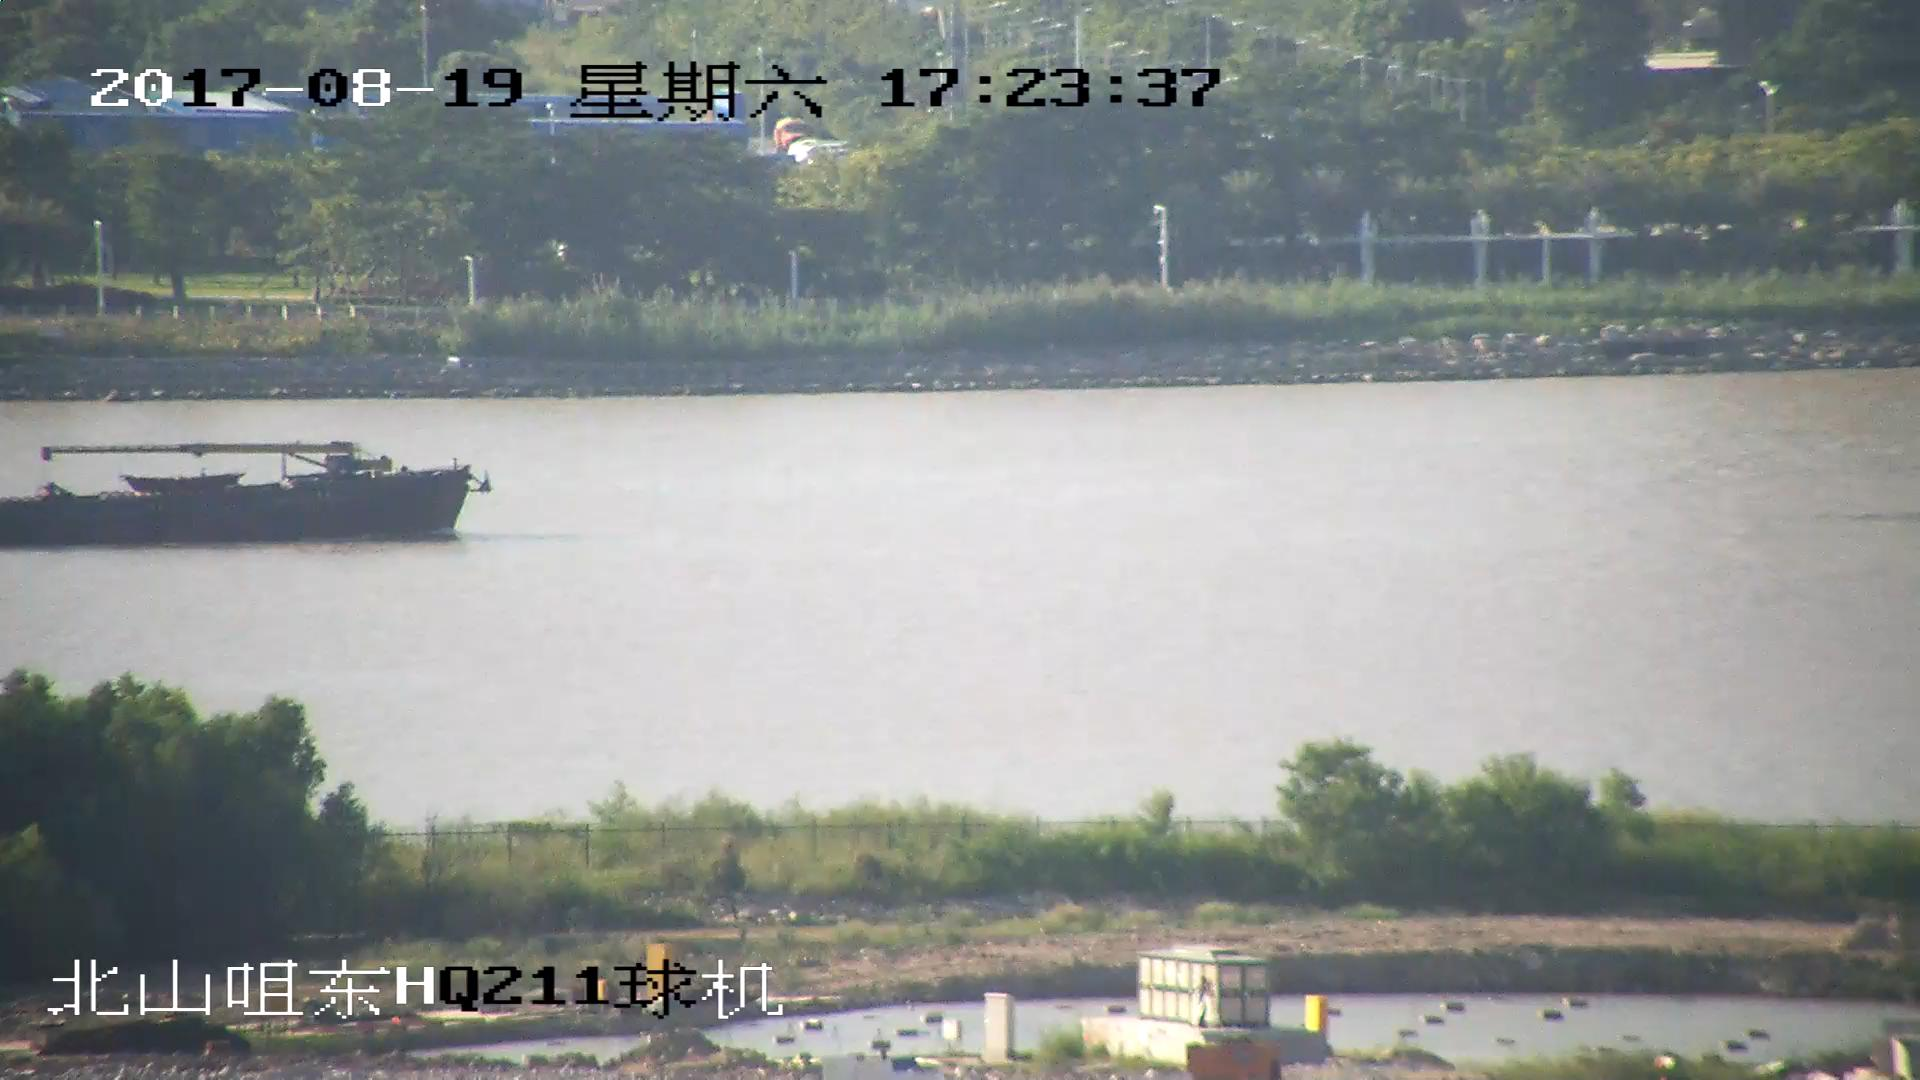bulk cargo carrier: (1, 442, 487, 536)
